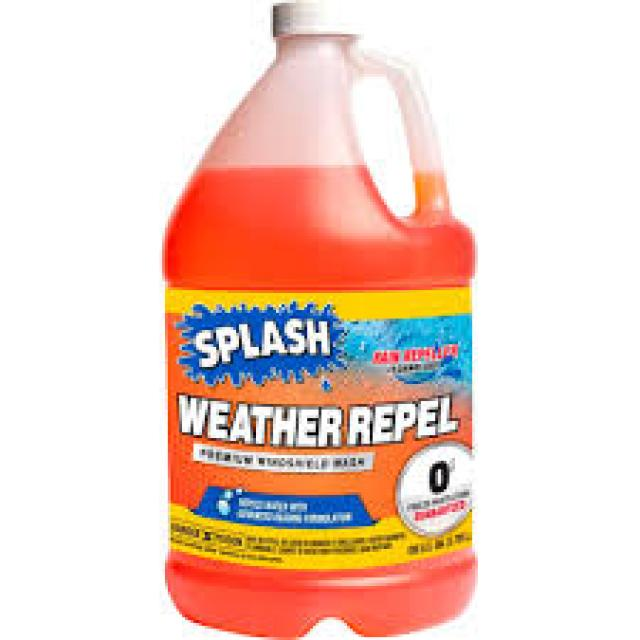winwinshield_washer: (152, 0, 490, 640)
